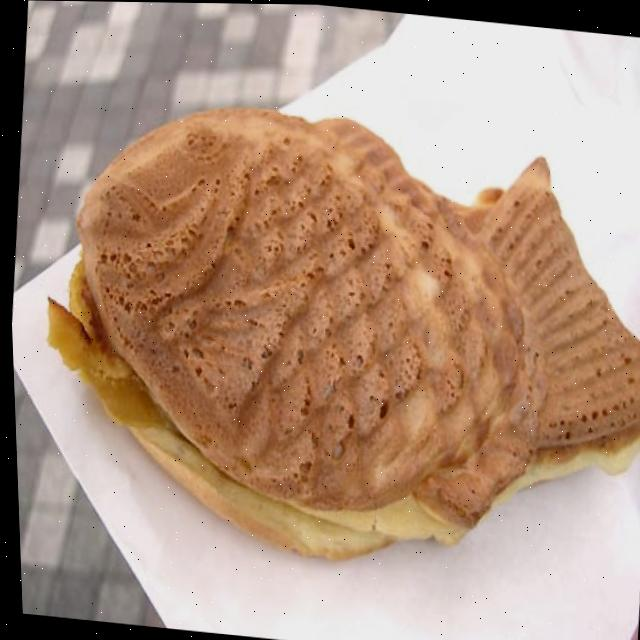熟制海鲜: (26, 72, 640, 583)
